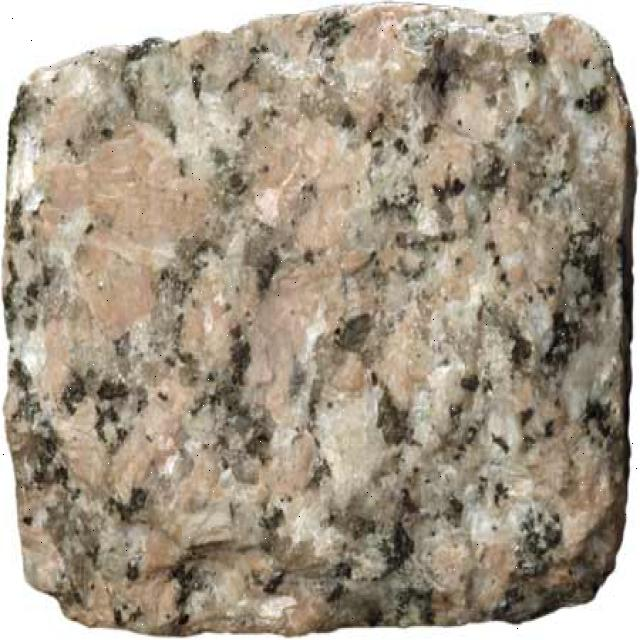Igneous: (1, 4, 633, 632)
